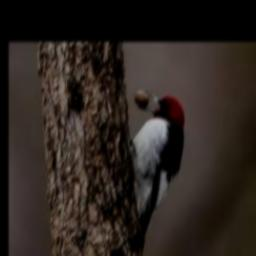Woodpecker: (130, 90, 185, 253)
